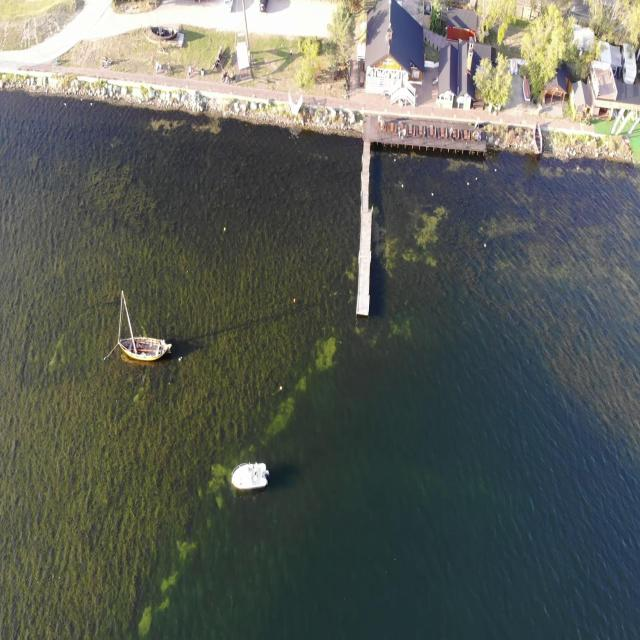boat: (230, 456, 270, 496)
bouy: (279, 385, 283, 392), (293, 298, 297, 304), (223, 226, 227, 232)
sailboat: (116, 288, 172, 366)
